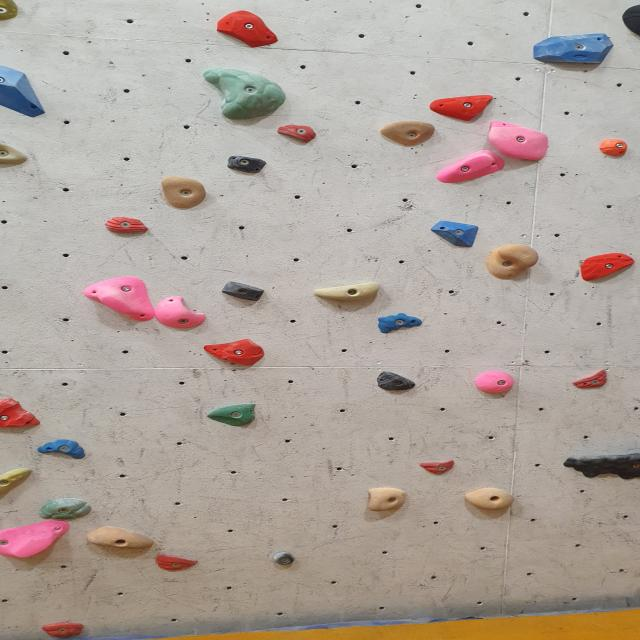Crimp: (529, 32, 615, 66), (214, 9, 281, 50), (435, 147, 507, 185), (426, 94, 498, 120), (208, 337, 270, 367), (579, 252, 634, 282), (0, 396, 42, 429), (373, 370, 424, 392), (155, 552, 204, 574), (42, 499, 92, 520), (280, 122, 324, 142), (42, 441, 88, 458), (417, 458, 464, 474), (573, 369, 608, 390), (108, 217, 149, 234), (46, 622, 83, 639)
Jug: (479, 121, 552, 163), (556, 452, 640, 482), (376, 117, 445, 147), (487, 243, 542, 279), (157, 296, 207, 330), (461, 484, 520, 512), (161, 176, 206, 208), (364, 485, 408, 514), (0, 143, 31, 165)
Pinch: (90, 524, 152, 551), (317, 280, 386, 304), (220, 279, 264, 304), (0, 468, 34, 500), (476, 370, 518, 395), (229, 154, 270, 173), (597, 136, 629, 158), (270, 552, 295, 566)
Sloper: (203, 64, 287, 122), (0, 517, 72, 559), (92, 275, 154, 321), (0, 64, 48, 116), (432, 217, 483, 249), (209, 403, 265, 426), (374, 312, 425, 334)
